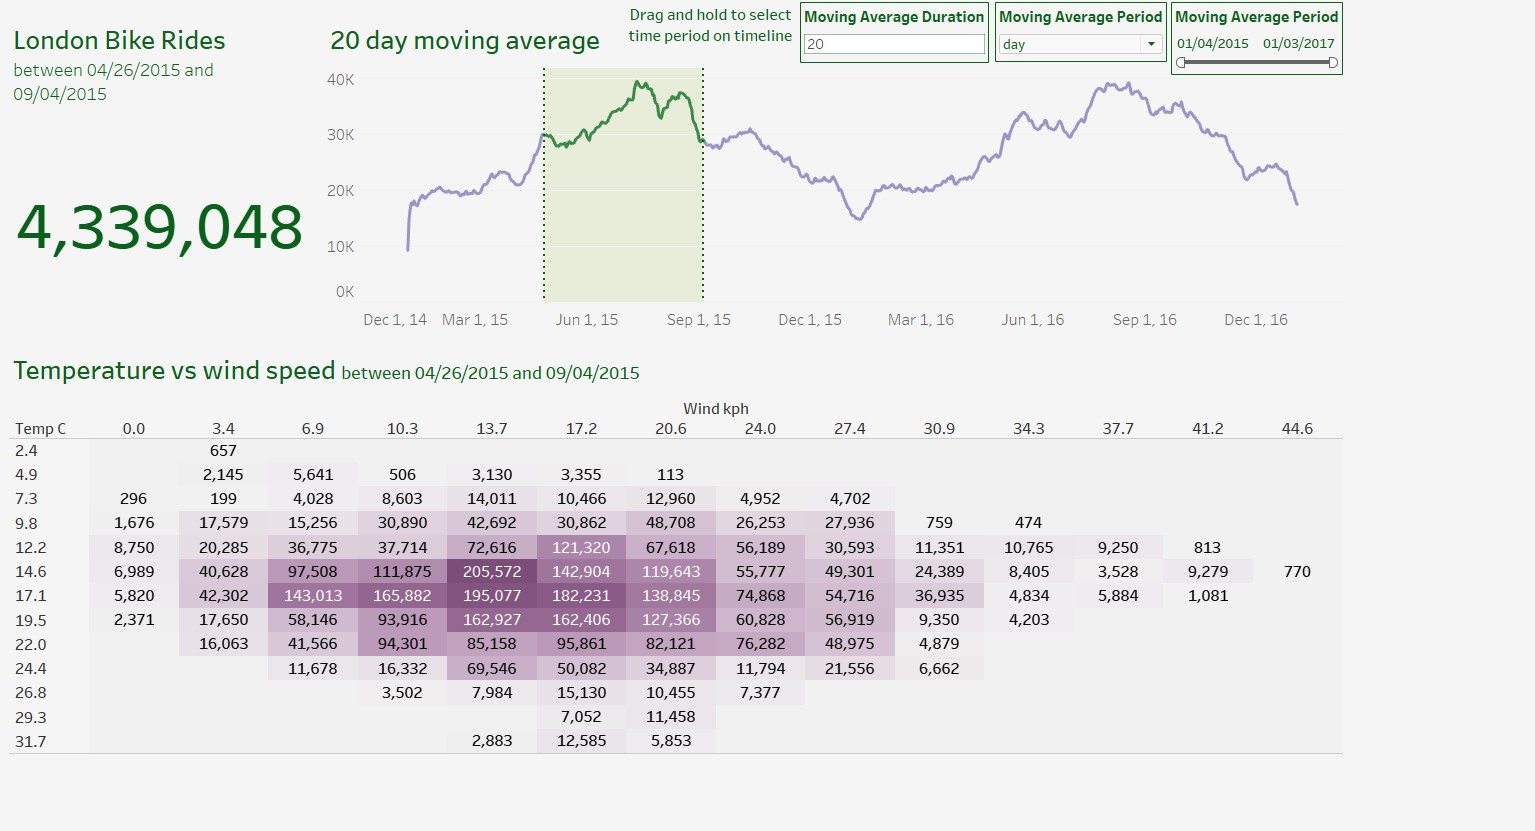

What the dashboard file says about the page in this screenshot:
{"tool":"tableau","page":{"name":"Dashboard 1","canvas":[1366,768],"ordinal":0},"visuals":[{"type":"parameter","param":"[Parameters].[Parameter 2]","box":[807,0,189,61]},{"type":"parameter","param":"[Parameters].[Parameter 1]","box":[1002,0,172,60]},{"type":"filter","title":"MovingAverage","param":"[federated.09q1bqc1ygsn021375s4l03ysjgi].[none:Calculation_1625518005191819264:q","box":[1178,0,172,73]},{"type":"text","box":[632,2,171,42]},{"type":"worksheet","title":"TotalRides","mark":"Automatic","box":[8,8,317,330]},{"type":"worksheet","title":"MovingAverage","mark":"Automatic","rows":["Calculation1"],"cols":["Calculation_1625518005191819264"],"box":[325,8,1033,330]},{"type":"worksheet","title":"Heatmap","mark":"Square","rows":["temp real C (bin)"],"cols":["Wind Speed Kph (bin)"],"box":[8,338,1350,422]}]}

Visuals, with their boxes on the page's 1366x768 design canvas (x1, y1, x2, y2). These are canvas units, not pixel positions in the 1535x831 screenshot, which may show the page scaled, cropped or inside an application window:
parameter: locate(807, 0, 996, 61)
parameter: locate(1002, 0, 1174, 60)
"MovingAverage" filter: locate(1178, 0, 1350, 73)
text: locate(632, 2, 803, 44)
"TotalRides" worksheet: locate(8, 8, 325, 338)
"MovingAverage" worksheet: locate(325, 8, 1358, 338)
"Heatmap" worksheet (Square marks): locate(8, 338, 1358, 760)
